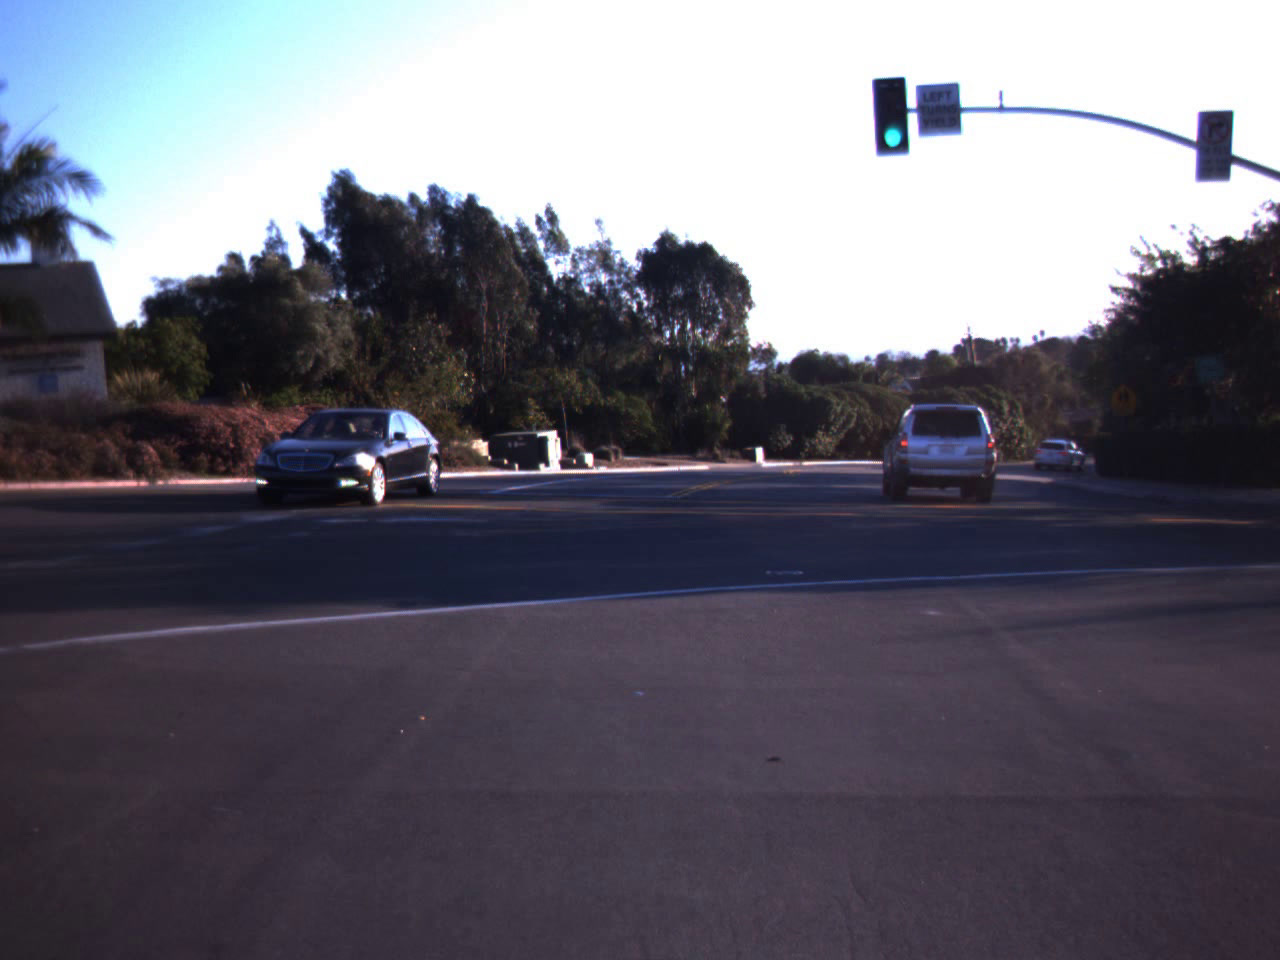go: (870, 74, 915, 154)
